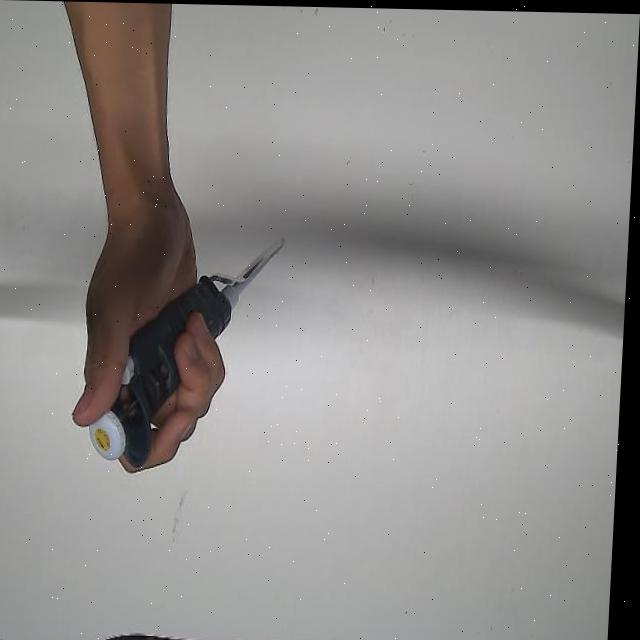Single Channel Pipettor: (89, 229, 292, 470)
